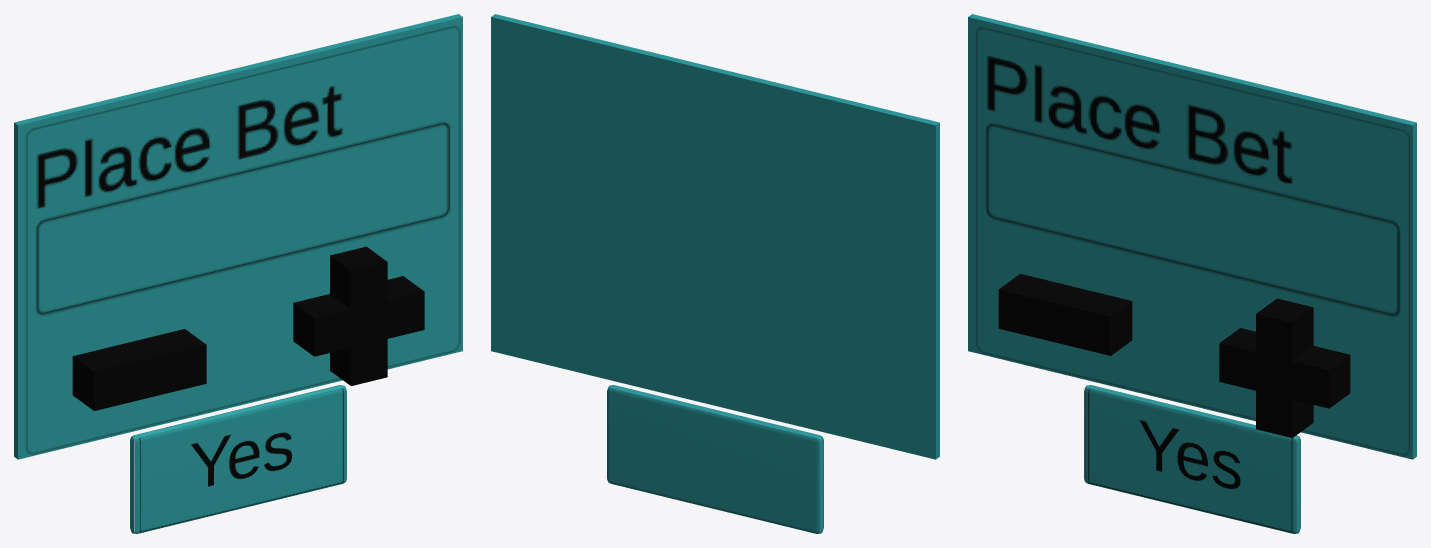
The model's file is BlackjackUI_Bet_UI_Panel.glb.
3 renders of one model, left to right at view 1: azimuth 30°, elevation 25°; view 2: azimuth 150°, elevation 25°; view 3: azimuth 330°, elevation 25°, orthographic.
Visible parts, largest first — view 1: Bet_UI_Panel_Mesh, Button_ConfirmBet, Button_AddBet, Button_SubtractBet; view 2: Bet_UI_Panel_Mesh, Button_ConfirmBet; view 3: Bet_UI_Panel_Mesh, Button_ConfirmBet, Button_AddBet, Button_SubtractBet.
Part boxes in pixels (x1=…): Bet_UI_Panel_Mesh: x1=14, y1=14, x2=462, y2=459; Button_ConfirmBet: x1=130, y1=385, x2=346, y2=533; Button_AddBet: x1=293, y1=246, x2=424, y2=386; Button_SubtractBet: x1=72, y1=329, x2=206, y2=410; Bet_UI_Panel_Mesh: x1=491, y1=14, x2=939, y2=459; Button_ConfirmBet: x1=607, y1=385, x2=823, y2=533; Bet_UI_Panel_Mesh: x1=968, y1=14, x2=1416, y2=459; Button_ConfirmBet: x1=1084, y1=385, x2=1300, y2=533; Button_AddBet: x1=1219, y1=298, x2=1350, y2=437; Button_SubtractBet: x1=998, y1=273, x2=1132, y2=355.
Bounding box in the file's own units: 0.3305 × 0.3117 × 0.0356.
Materials: 1 (1 with a texture image).
